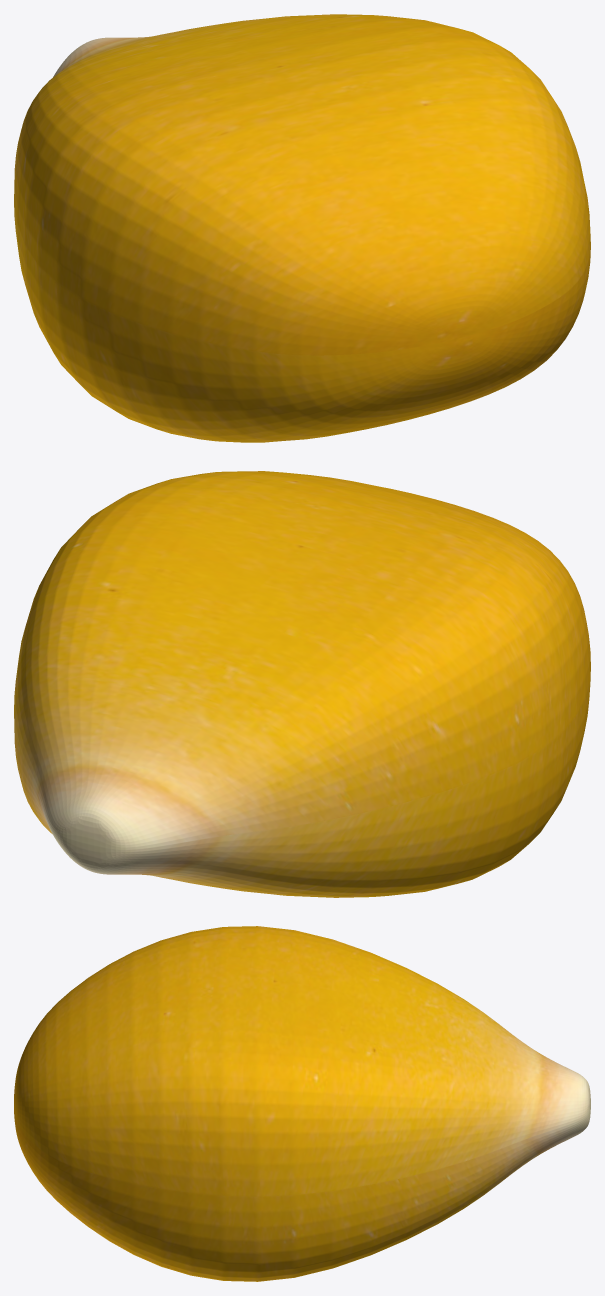
The model's file is kernel_high_poly.fbx.
3 renders of one model, top to bottom at view 1: azimuth 30°, elevation 25°; view 2: azimuth 150°, elevation 25°; view 3: azimuth 270°, elevation 25°, orthographic. The views are drawn at different scales.
Visible parts, largest first — view 1: Corn_kernel-material.001; view 2: Corn_kernel-material.001; view 3: Corn_kernel-material.001.
Part boxes in pixels (bbox=[...]): Corn_kernel-material.001: bbox=[14, 14, 590, 442]; Corn_kernel-material.001: bbox=[14, 471, 590, 897]; Corn_kernel-material.001: bbox=[14, 926, 590, 1281].
Size of the model in its own units: 7.16 by 4.38 by 9.41.
1 material, 1 textured.
